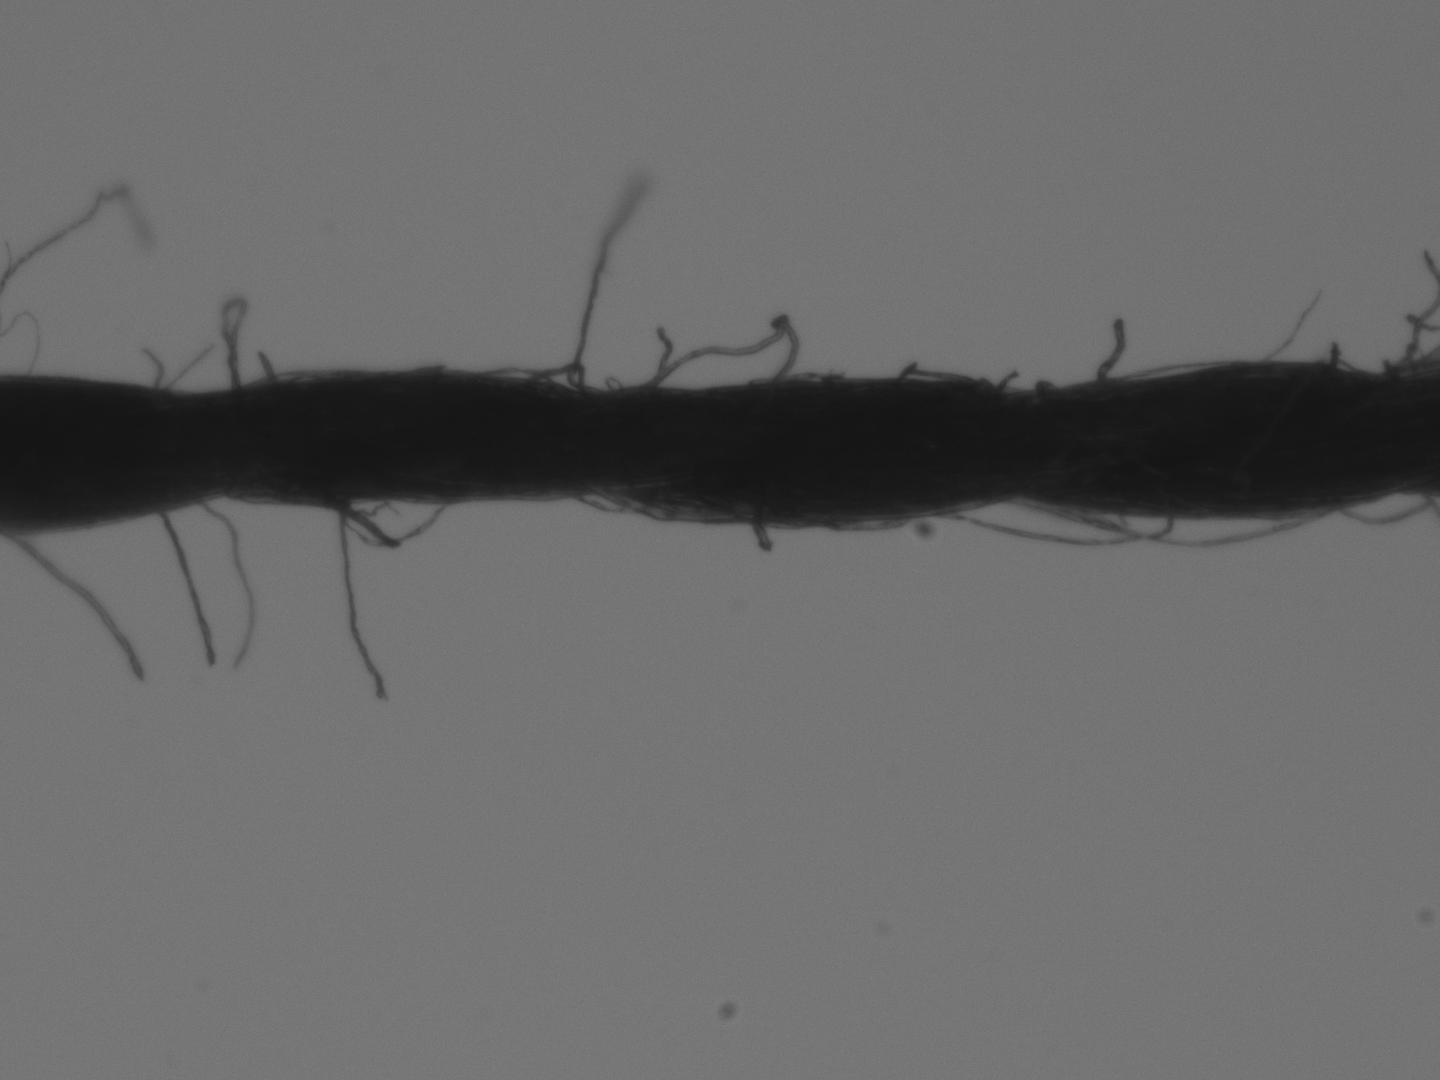loop_fiber: (1017, 500, 1306, 548), (637, 315, 796, 394), (934, 503, 1169, 550), (890, 361, 1008, 394), (1329, 491, 1425, 529), (527, 362, 603, 397), (238, 368, 355, 389), (485, 361, 553, 389), (570, 484, 629, 512)
protruding_fiber: (7, 529, 146, 683), (570, 179, 647, 397), (333, 498, 384, 708), (154, 508, 212, 668), (327, 496, 392, 554), (160, 344, 217, 393), (1092, 315, 1128, 383), (638, 323, 668, 394), (138, 345, 162, 388), (749, 512, 769, 554)
